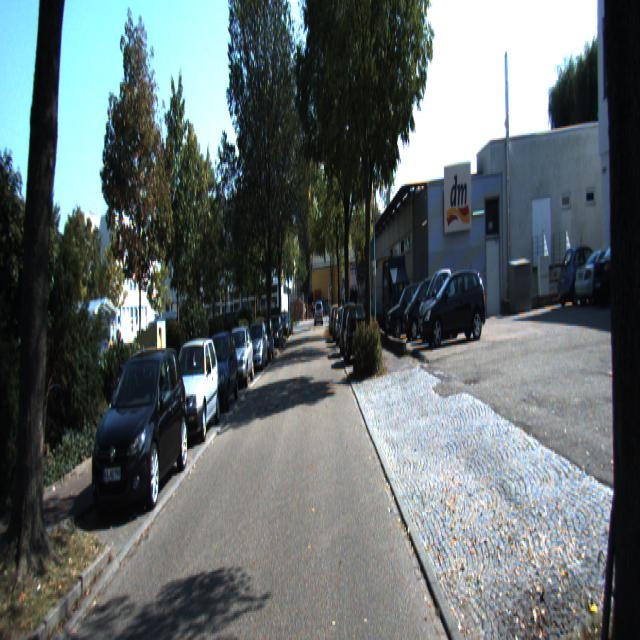Car: (89, 336, 190, 521), (162, 331, 222, 446), (418, 262, 488, 349), (571, 229, 639, 298), (554, 237, 626, 302), (592, 218, 640, 298), (401, 270, 451, 344), (417, 260, 462, 342), (201, 326, 239, 413), (223, 322, 254, 388), (344, 300, 368, 362), (623, 217, 639, 297), (245, 319, 269, 372)
